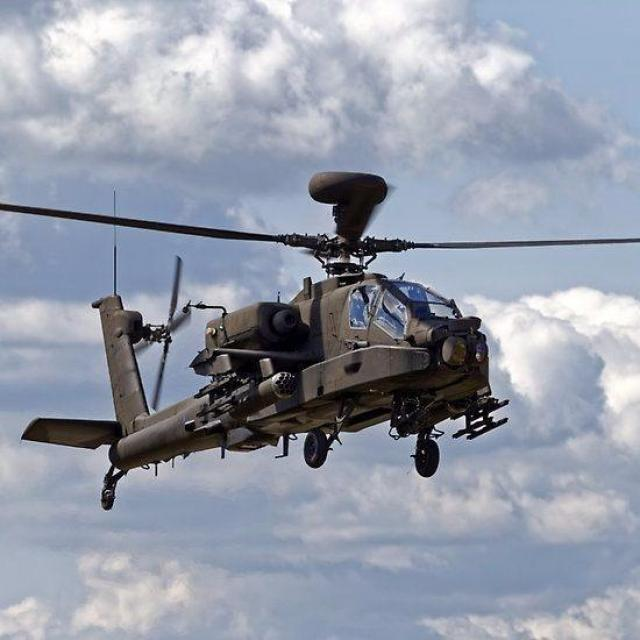MIL_HELO: (0, 164, 637, 505)
